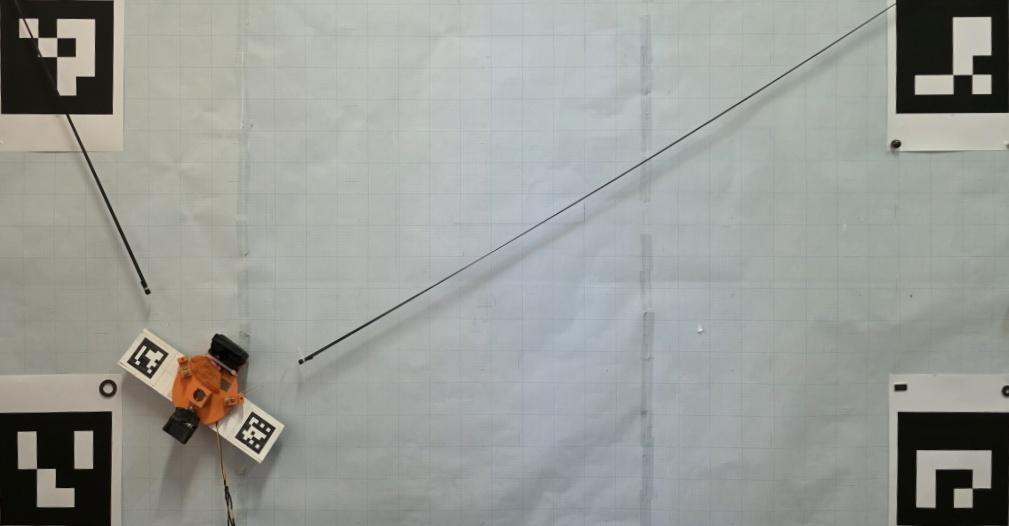robot: (161, 334, 249, 446)
